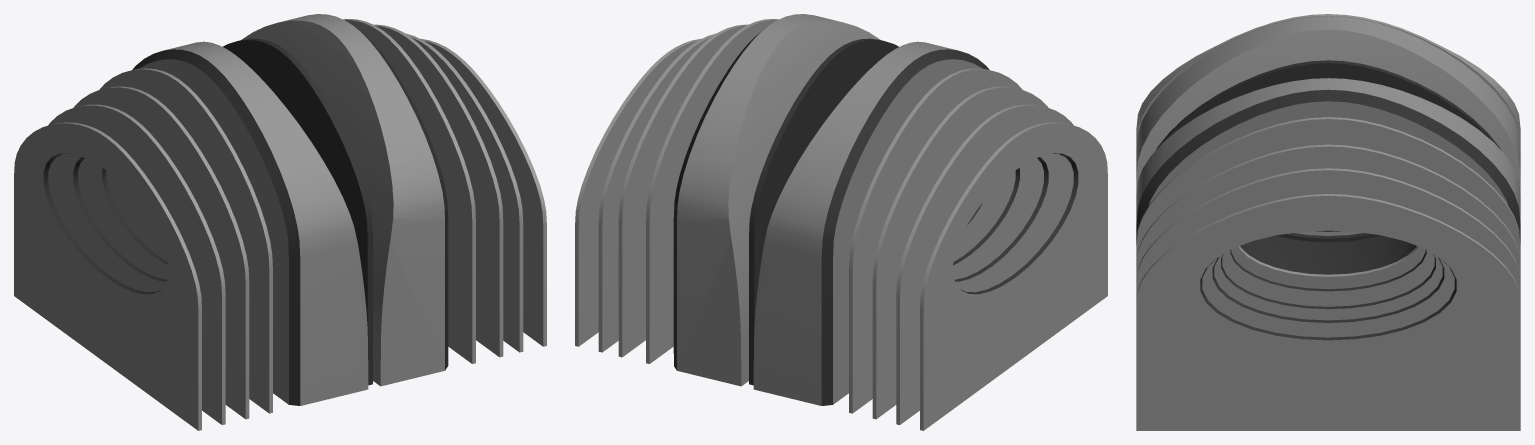
The model's file is build5.gltf.
3 renders of one model, left to right at view 1: azimuth 30°, elevation 25°; view 2: azimuth 150°, elevation 25°; view 3: azimuth 270°, elevation 25°, orthographic. The views are drawn at different scales.
Parts seen in each view (by area): view 1: Object_59; view 2: Object_59; view 3: Object_59.
Part boxes in pixels (x1,y1,x2,y2): Object_59: (14, 14, 546, 430); Object_59: (575, 14, 1107, 430); Object_59: (1136, 14, 1520, 430).
Bounding box in the file's own units: 7.11 × 5.42 × 6.52.
3 materials, 1 textured.
